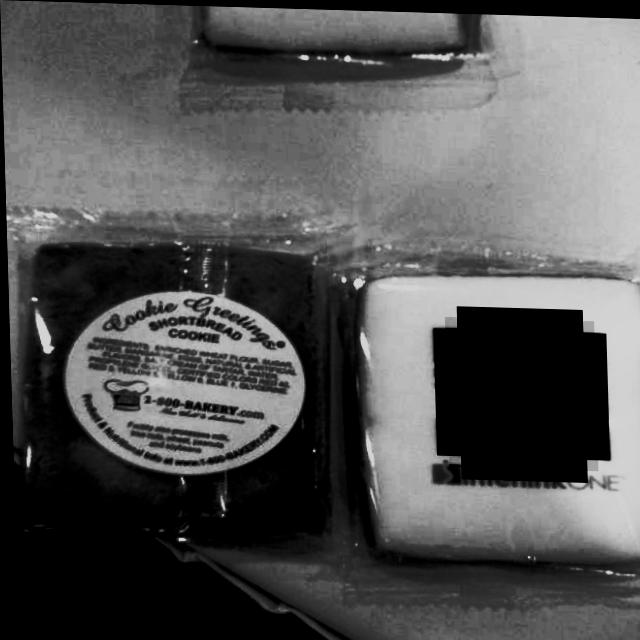qr_code: (443, 315, 596, 468)
